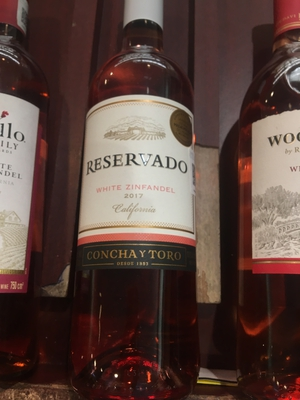reservado white zinfandel: (76, 10, 204, 396)
